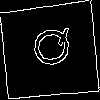Q: (25, 26, 74, 69)
